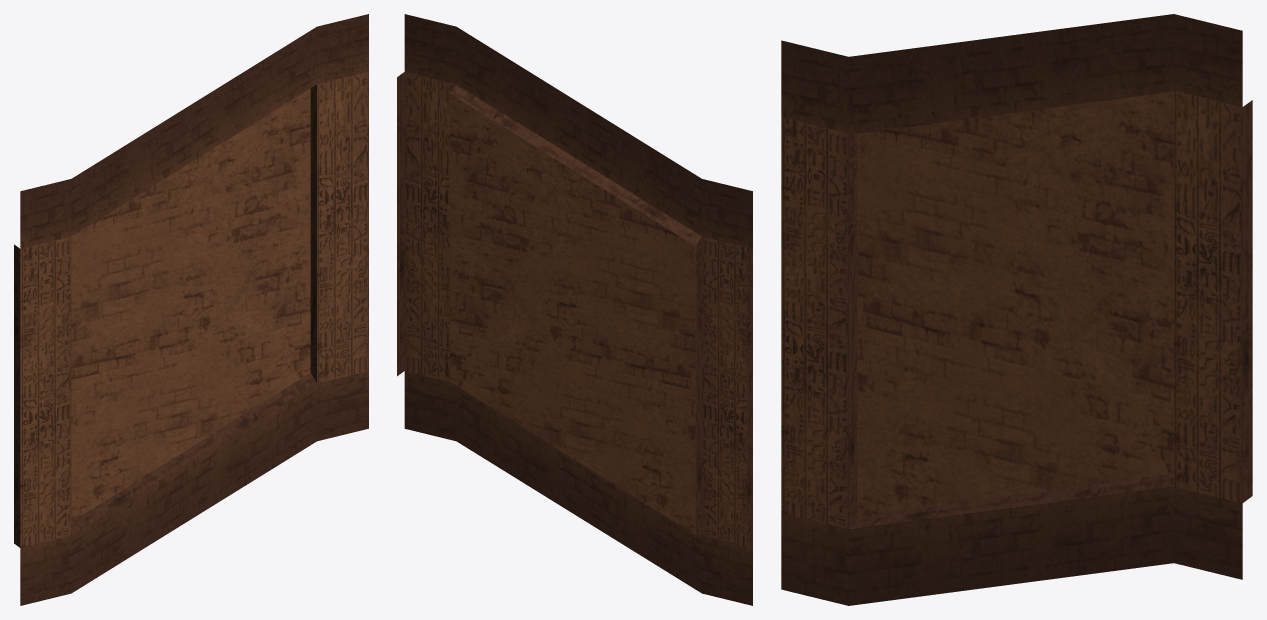
The model's file is Wall_Stairs_L_01.FBX.
The picture shows the model from 3 angles, left to right: view 1: azimuth 30°, elevation 25°; view 2: azimuth 150°, elevation 25°; view 3: azimuth 330°, elevation 25°; orthographic projection. The views are drawn at different scales.
Visible parts, largest first — view 1: Wall_Stairs_L_01; view 2: Wall_Stairs_L_01; view 3: Wall_Stairs_L_01.
Boxes of the visible parts, <box> form: Wall_Stairs_L_01: <box>14,14,368,605</box>; Wall_Stairs_L_01: <box>397,14,752,605</box>; Wall_Stairs_L_01: <box>781,14,1252,605</box>.
Size of the model in its own units: 116 by 162 by 4.42.
